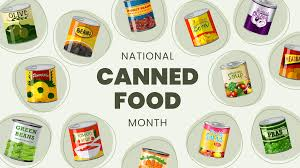can: (1, 1, 300, 168)
